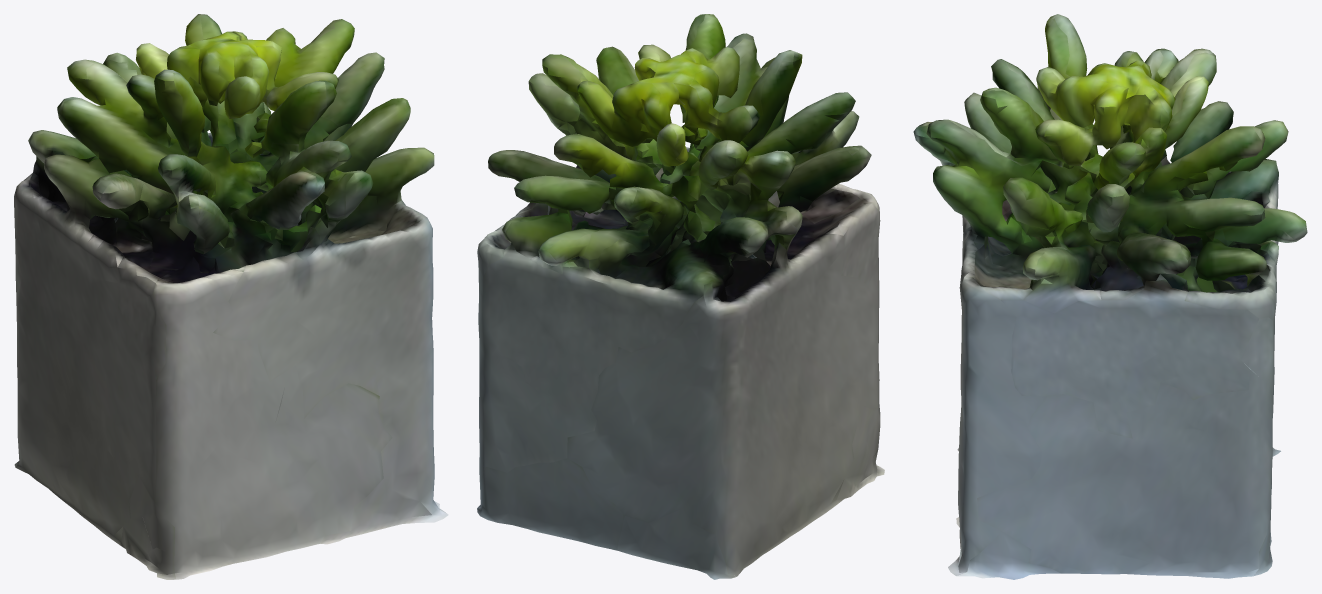
Rendered from cactus_plant_pot_cube_small_model.glb.
The picture shows the model from 3 angles, left to right: view 1: azimuth 30°, elevation 25°; view 2: azimuth 150°, elevation 25°; view 3: azimuth 270°, elevation 25°; orthographic projection. The views are drawn at different scales.
Parts seen in each view (by area): view 1: Object_4; view 2: Object_4; view 3: Object_4.
Boxes of the visible parts, left/top/right/bottom form: Object_4: left=14, top=14, right=448, bottom=579; Object_4: left=477, top=14, right=884, bottom=579; Object_4: left=913, top=14, right=1307, bottom=579.
Size of the model in its own units: 0.0932 by 0.1238 by 0.0979.
Materials: 1 (1 with a texture image).
